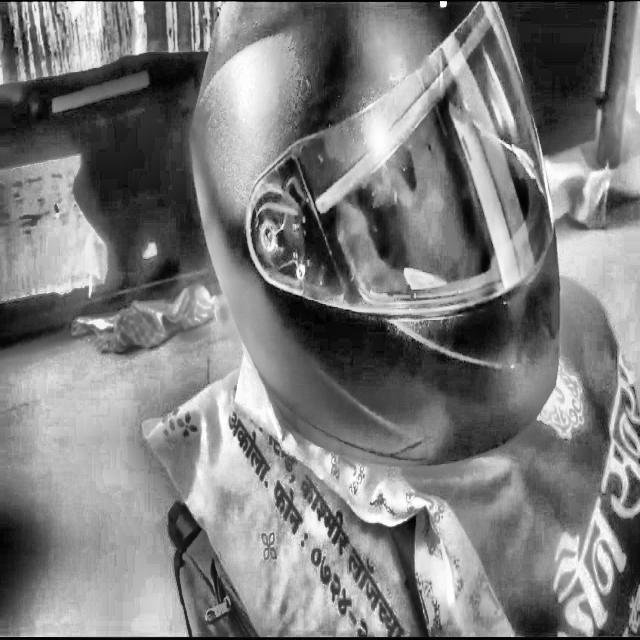Helmet: (187, 2, 572, 469)
